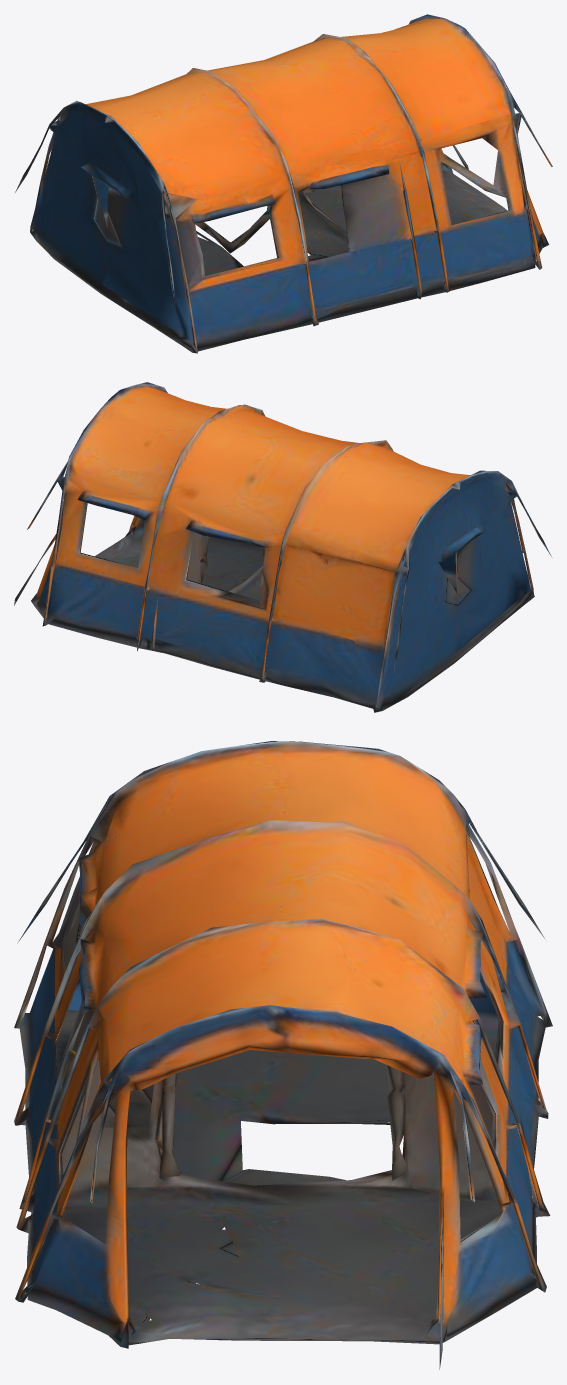
The model's file is zs_zelt2.glb.
The picture shows the model from 3 angles, top to bottom: view 1: azimuth 30°, elevation 25°; view 2: azimuth 150°, elevation 25°; view 3: azimuth 270°, elevation 25°; orthographic projection. The views are drawn at different scales.
Parts seen in each view (by area): view 1: tripo_node_7ef5aa9b-3275-4fa0-992a-0aab03cb6e71; view 2: tripo_node_7ef5aa9b-3275-4fa0-992a-0aab03cb6e71; view 3: tripo_node_7ef5aa9b-3275-4fa0-992a-0aab03cb6e71.
Boxes of the visible parts, left/top/right/bottom form: tripo_node_7ef5aa9b-3275-4fa0-992a-0aab03cb6e71: left=14, top=14, right=552, bottom=353; tripo_node_7ef5aa9b-3275-4fa0-992a-0aab03cb6e71: left=14, top=382, right=551, bottom=712; tripo_node_7ef5aa9b-3275-4fa0-992a-0aab03cb6e71: left=14, top=741, right=552, bottom=1369.
Bounding box in the file's own units: 1 × 0.4537 × 0.6793.
1 material, 1 textured.
